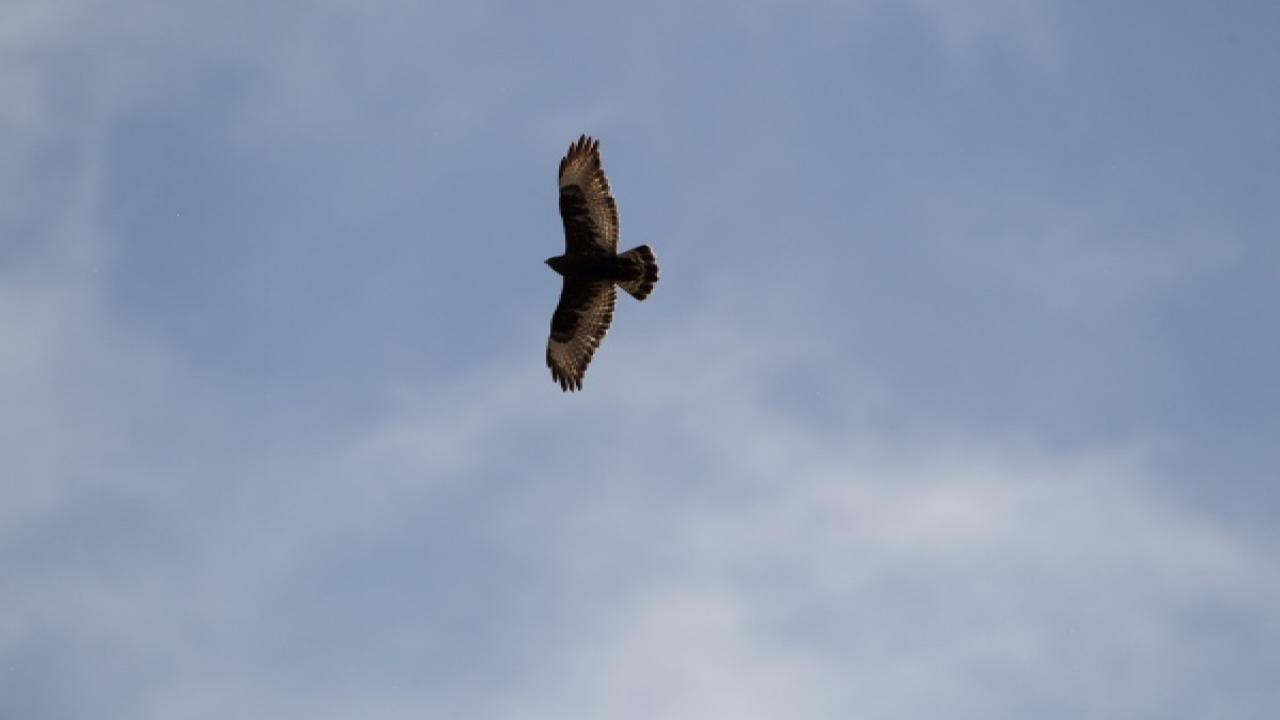Bird: (522, 125, 675, 398)
